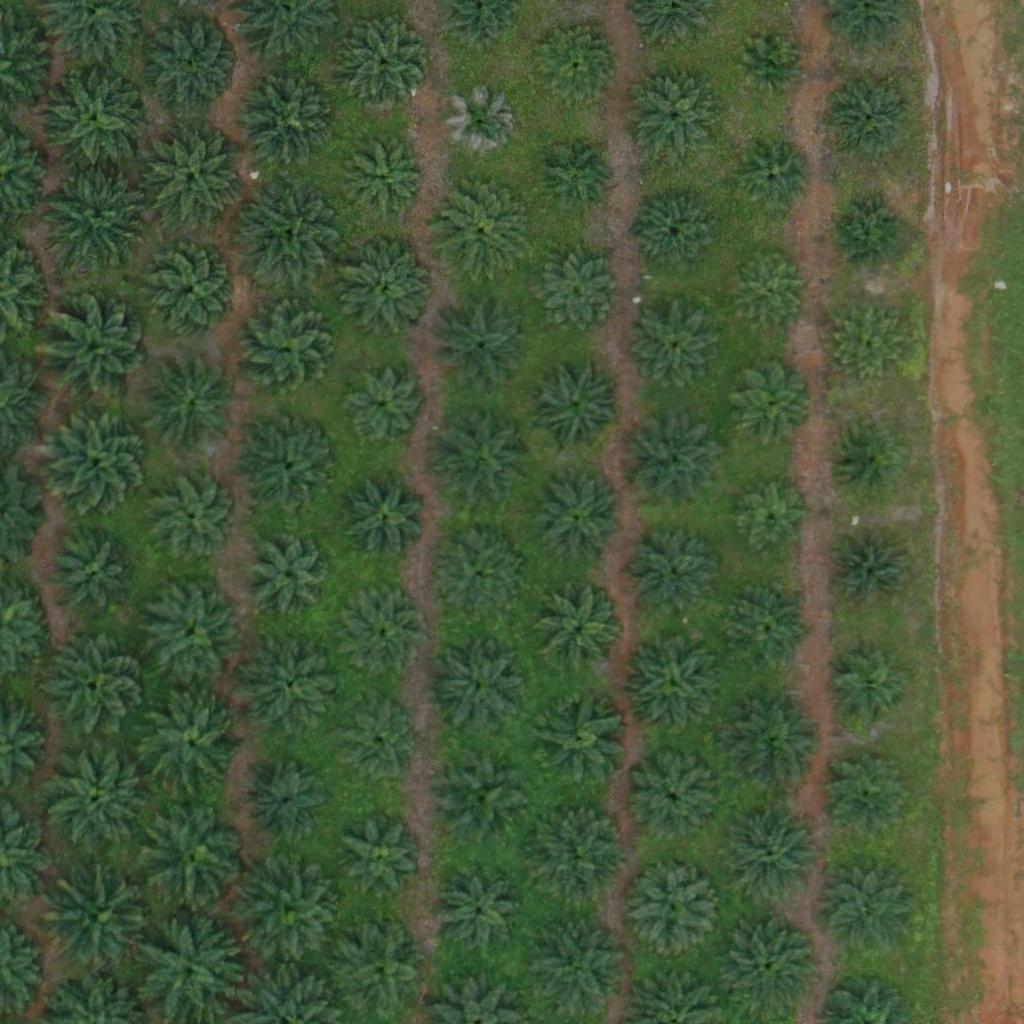Kelapa_Sawit: (37, 63, 150, 177), (45, 162, 158, 276), (39, 294, 152, 407), (41, 404, 154, 517), (232, 178, 344, 292), (40, 740, 152, 853), (47, 867, 159, 980), (238, 69, 338, 170), (436, 178, 536, 279), (619, 412, 719, 513), (524, 243, 624, 344), (524, 353, 624, 454), (430, 293, 530, 394), (243, 634, 343, 735), (141, 353, 241, 454), (142, 581, 242, 682), (142, 698, 242, 799), (46, 635, 146, 736), (433, 746, 533, 847), (528, 799, 628, 900), (533, 920, 633, 1021), (624, 859, 724, 960), (726, 804, 826, 905), (719, 915, 819, 1016), (142, 13, 242, 113), (144, 130, 244, 230), (722, 693, 822, 793), (622, 632, 722, 732), (528, 689, 628, 789), (433, 409, 533, 509), (428, 636, 528, 736), (338, 237, 438, 337), (237, 299, 337, 399), (241, 415, 341, 515), (141, 240, 241, 340), (143, 802, 243, 902), (241, 862, 341, 962), (329, 920, 429, 1020), (532, 23, 620, 112), (634, 190, 722, 279), (630, 755, 718, 844), (533, 130, 621, 218), (824, 648, 912, 736), (824, 76, 912, 164), (727, 585, 815, 673), (629, 304, 717, 392), (628, 529, 716, 617), (341, 366, 429, 454), (50, 530, 138, 618), (435, 869, 523, 957), (725, 357, 812, 445), (828, 529, 915, 617), (342, 23, 429, 111), (631, 76, 718, 164), (533, 477, 620, 565), (536, 588, 623, 676), (436, 537, 523, 625), (248, 529, 335, 617), (150, 473, 237, 561), (824, 749, 911, 837), (824, 864, 911, 952), (348, 140, 423, 216), (350, 483, 425, 559), (348, 594, 423, 670), (251, 764, 326, 840), (345, 817, 420, 893), (738, 141, 813, 216), (736, 483, 811, 558), (828, 304, 903, 379), (835, 196, 910, 271), (444, 87, 519, 162), (730, 252, 805, 327), (340, 709, 415, 784), (833, 427, 896, 490), (740, 36, 803, 99)
